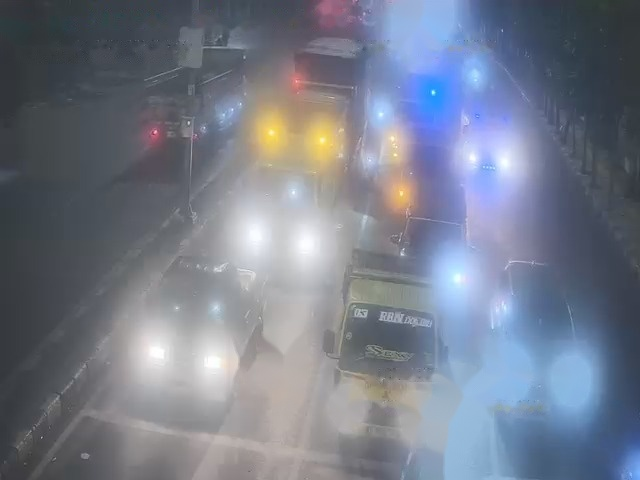Mobil: (152, 252, 260, 392), (500, 257, 589, 402), (396, 170, 468, 283), (462, 105, 515, 184)
Truk: (329, 249, 448, 449), (252, 89, 340, 266), (139, 52, 252, 135)
